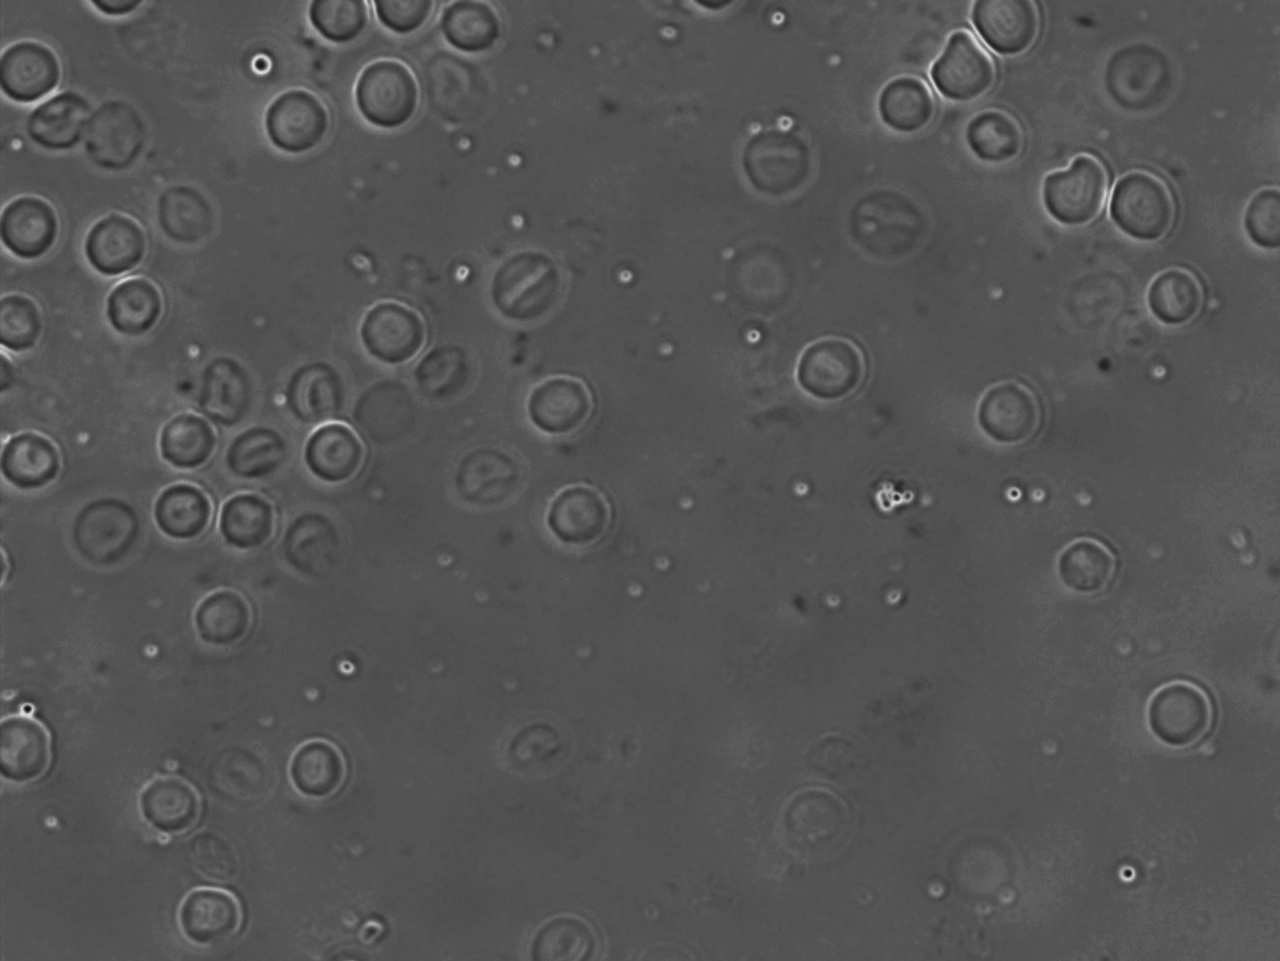depth:0: (1092, 157, 1191, 250), (1125, 662, 1226, 751), (909, 18, 1003, 112), (963, 366, 1058, 456), (1031, 142, 1121, 236), (343, 55, 436, 138), (171, 877, 269, 956), (127, 762, 222, 843), (350, 288, 438, 368), (790, 326, 868, 416), (865, 58, 952, 137), (1047, 522, 1128, 606), (252, 82, 337, 162), (543, 471, 622, 549), (76, 209, 158, 283), (279, 733, 356, 811), (207, 482, 284, 560), (145, 398, 220, 476), (516, 370, 592, 447), (292, 409, 368, 483), (190, 579, 268, 652), (147, 477, 221, 553)
